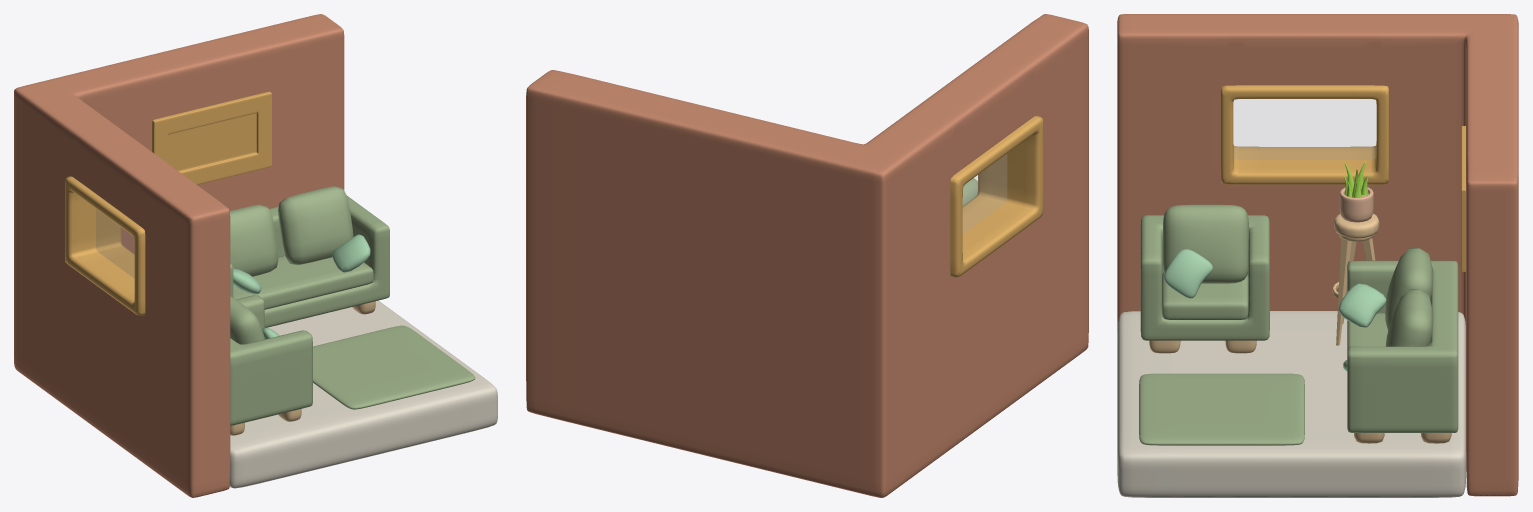
File: scenelo.glb
The picture shows the model from 3 angles, left to right: view 1: azimuth 30°, elevation 25°; view 2: azimuth 150°, elevation 25°; view 3: azimuth 270°, elevation 25°; orthographic projection. The views are drawn at different scales.
Parts seen in each view (by area): view 1: Base, Double Sofa, Single Sofa, Window.001; view 2: Base, Window.001; view 3: Base, Double Sofa, Single Sofa, Window.001, Table Side.
Boxes of the visible parts, x1,y1,x2,y2 form: Base: [14, 14, 497, 497]; Double Sofa: [230, 186, 389, 327]; Single Sofa: [230, 295, 312, 435]; Window.001: [65, 176, 145, 315]; Base: [526, 14, 1088, 497]; Window.001: [950, 115, 1043, 277]; Base: [1117, 14, 1518, 497]; Double Sofa: [1338, 248, 1458, 443]; Single Sofa: [1140, 204, 1269, 353]; Window.001: [1220, 85, 1388, 184]; Table Side: [1332, 161, 1379, 345].
Size of the model in its own units: 8.87 by 7.64 by 8.69.
